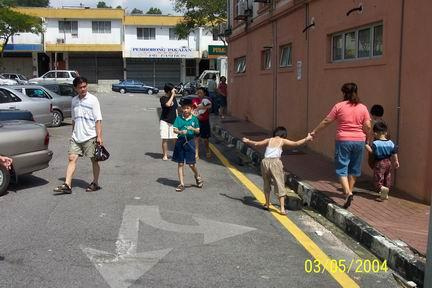person: (312, 83, 372, 209), (54, 77, 102, 194)
